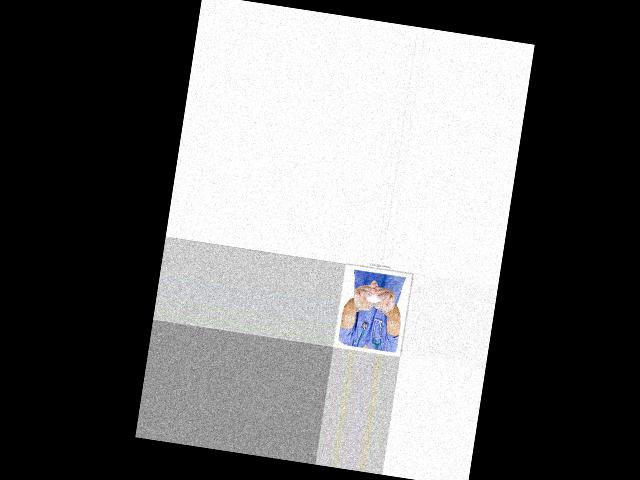egg: (365, 292, 382, 304)
